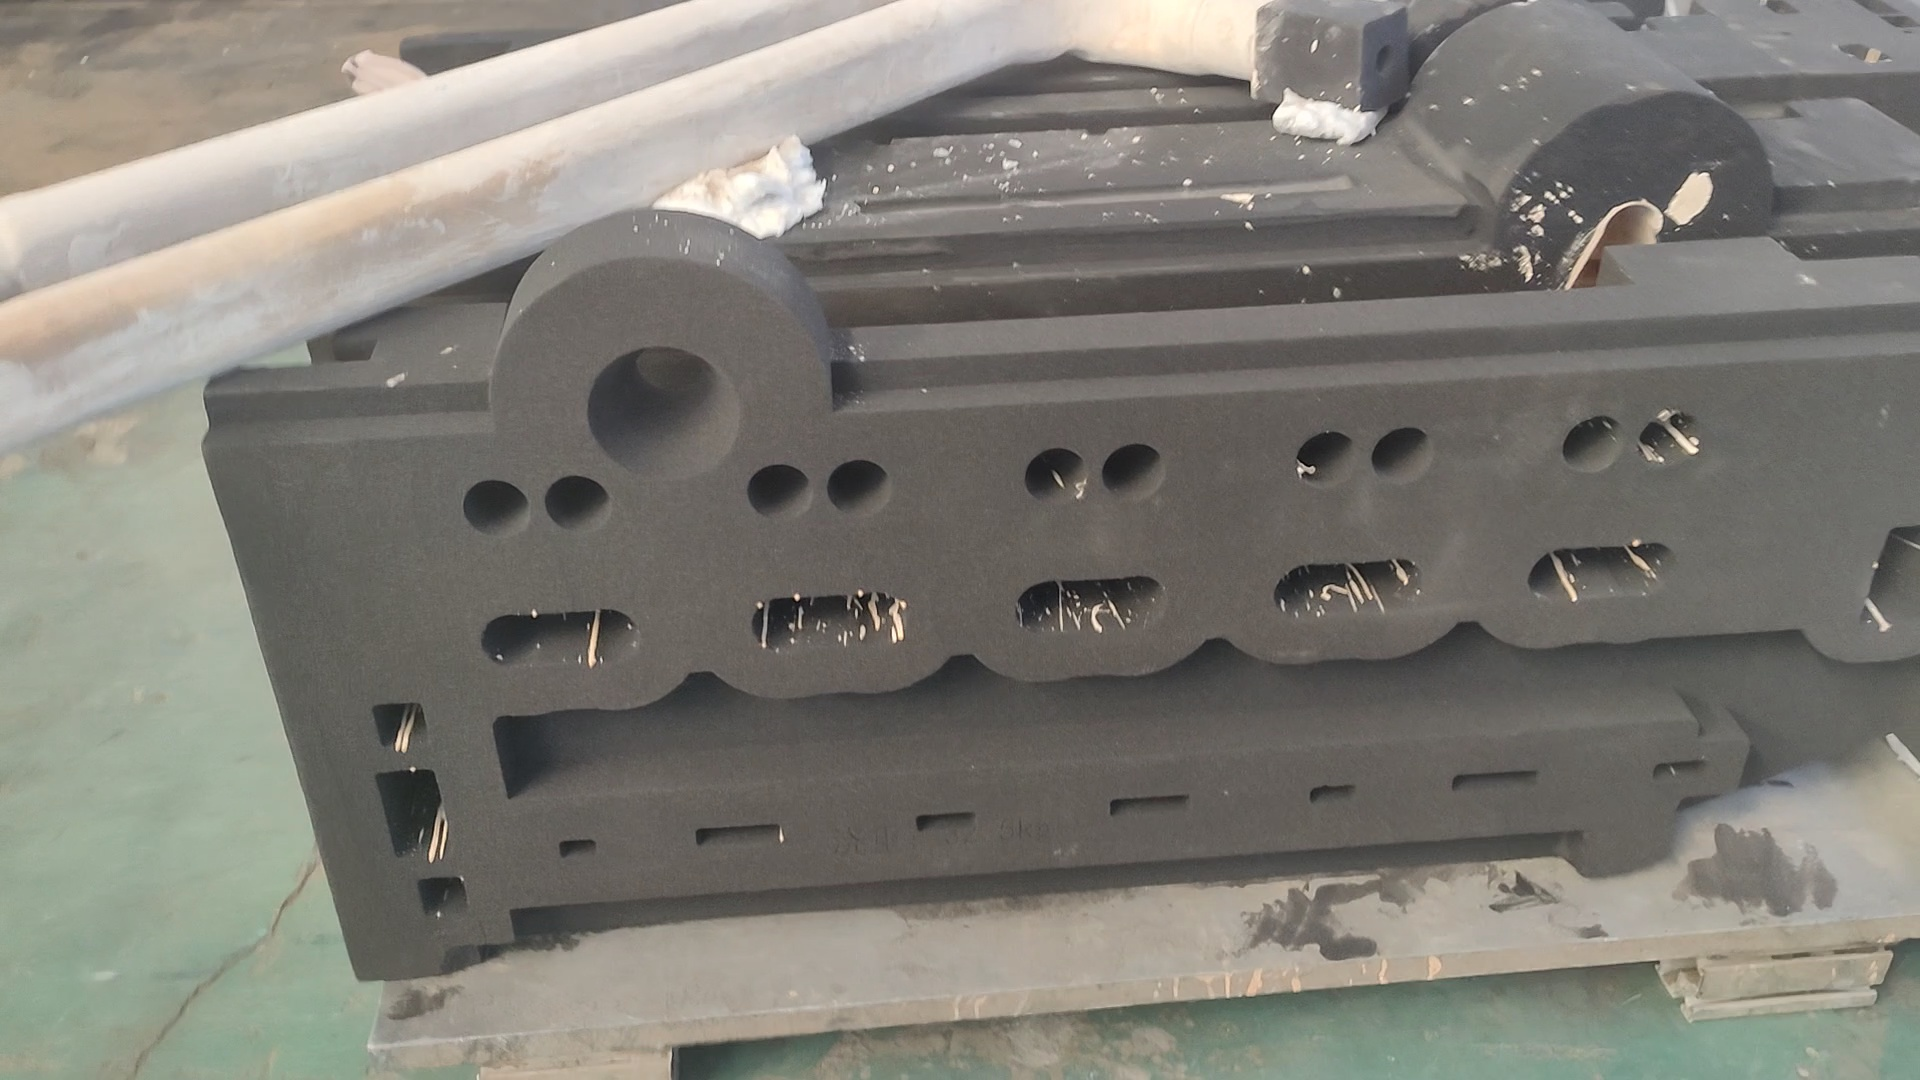pouring hole: (585, 345, 741, 479)
